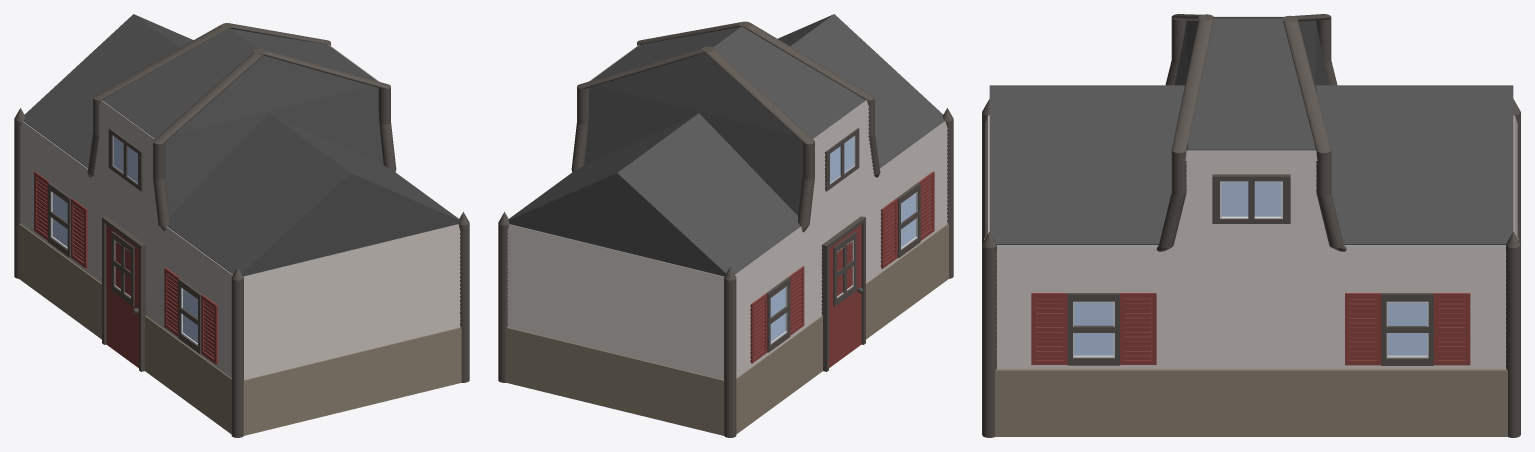
The model's file is coastguardstation.glb.
3 views of the same model, side by side, from view 1: azimuth 30°, elevation 25°; view 2: azimuth 150°, elevation 25°; view 3: azimuth 270°, elevation 25° (orthographic). The views are drawn at different scales.
Visible parts, largest first — view 1: Cube.002, Cube, baseboard4, baseboard1, Cube.004, Cube.003, door, Cylinder.002, panel.032, Cylinder, Cylinder.007, doorframe (+48 smaller); view 2: Cube.003, Cube, baseboard3, baseboard1, Cube.004, Cube.002, door, Cylinder.003, panel.058, Cylinder.001, Cylinder.006, doorframe (+49 smaller); view 3: baseboard2, Cube.003, Cube.002, Cube, Cylinder.007, Cylinder.006, panel6.029, panel6.027, panel.007, panel4.007, panel5.007, Cylinder.004 (+53 smaller).
Part boxes in pixels (x1,y1,x2,y2): Cube.002: (167,113,459,276); Cube: (103,28,377,138); baseboard4: (243,327,461,435); baseboard1: (19,224,231,434); Cube.004: (103,86,383,215); Cube.003: (23,14,193,167); door: (106,225,138,367); Cylinder.002: (153,52,264,231); panel.032: (243,224,460,285); Cylinder: (231,278,243,437); Cylinder.007: (254,48,396,171); doorframe: (102,216,146,371); Cube.003: (508,113,800,276); Cube: (591,27,864,138); baseboard3: (506,327,724,435); baseboard1: (736,224,948,434); Cube.004: (584,86,864,215); Cube.002: (778,14,944,167); door: (829,225,861,367); Cylinder.003: (701,49,814,232); panel.058: (507,224,724,285); Cylinder.001: (724,278,736,437); Cylinder.006: (571,46,714,171); doorframe: (821,216,865,371); baseboard2: (995,369,1507,436); Cube.003: (1316,85,1513,244); Cube.002: (989,85,1184,244); Cube: (1187,17,1315,149); Cylinder.007: (1156,14,1213,251); Cylinder.006: (1282,15,1346,251); panel6.029: (996,247,1506,254); panel6.027: (996,283,1506,288); panel.007: (996,278,1506,283); panel4.007: (996,264,1506,269); panel5.007: (996,259,1506,264); Cylinder.004: (1506,245,1520,437).
Bounding box in the file's own units: 6.41 × 7.38 × 10.29.
Materials: 7 (1 with a texture image).
